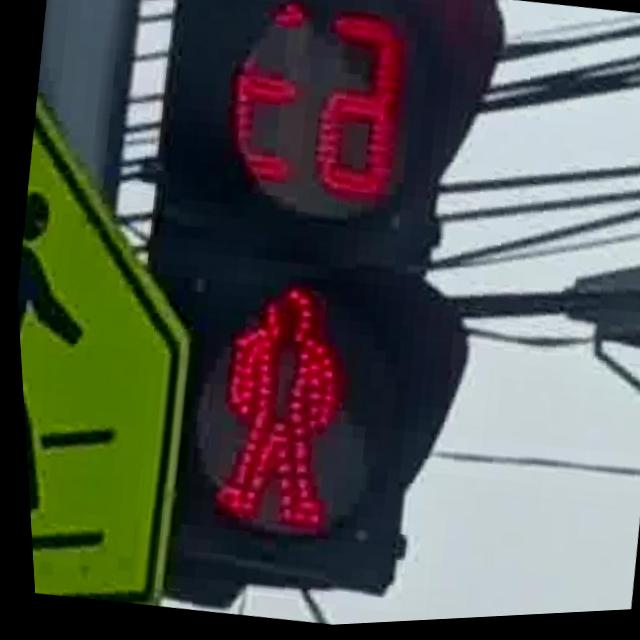red_light: (183, 265, 374, 555)
